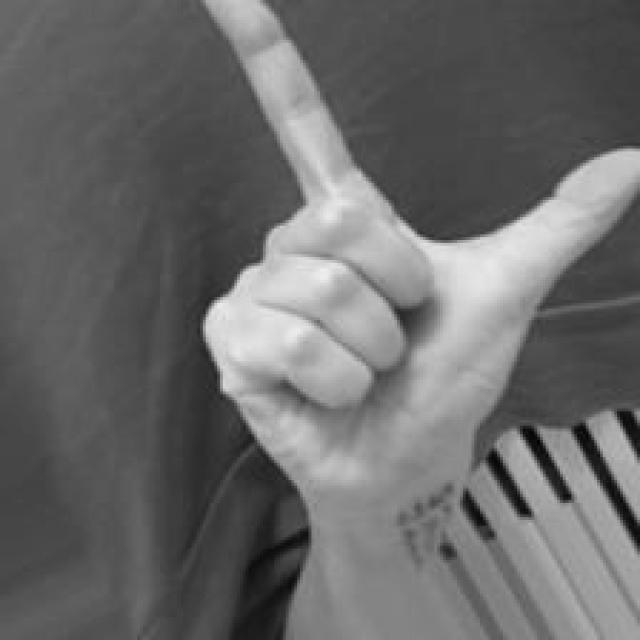L: (191, 1, 640, 501)
